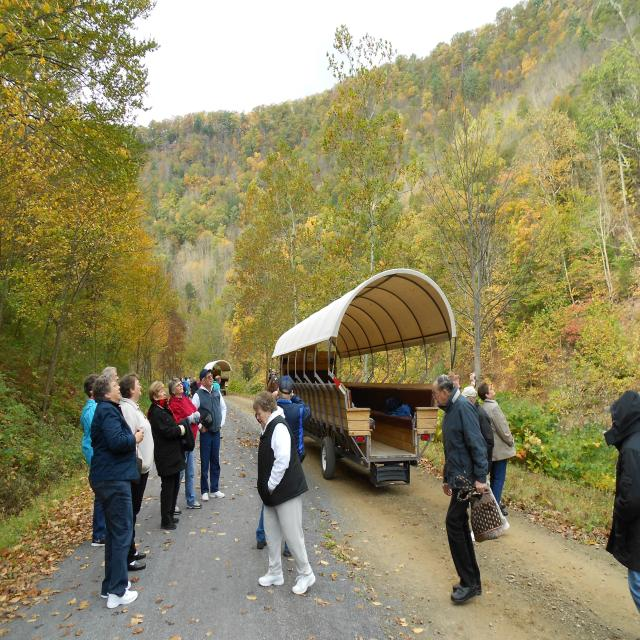body: (429, 371, 506, 607), (250, 388, 318, 598), (86, 373, 145, 610), (255, 372, 313, 558), (602, 384, 640, 640), (118, 372, 155, 572), (146, 378, 185, 531), (475, 382, 518, 518), (164, 376, 203, 516), (191, 368, 227, 501), (79, 374, 106, 547), (460, 385, 494, 477), (212, 374, 223, 440), (172, 372, 202, 396), (448, 372, 477, 393), (97, 362, 121, 384), (190, 377, 199, 399)
